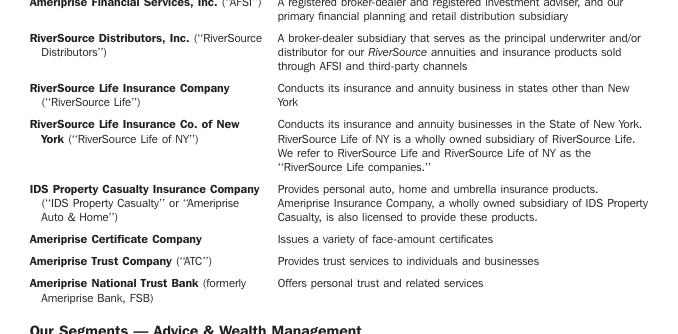table: (28, 29, 646, 303)
table column: (268, 29, 646, 303), (28, 29, 268, 303)
table row: (28, 112, 646, 176), (28, 176, 646, 227), (28, 29, 646, 75), (28, 75, 646, 112), (28, 271, 646, 303), (28, 227, 646, 249), (28, 249, 646, 271)
